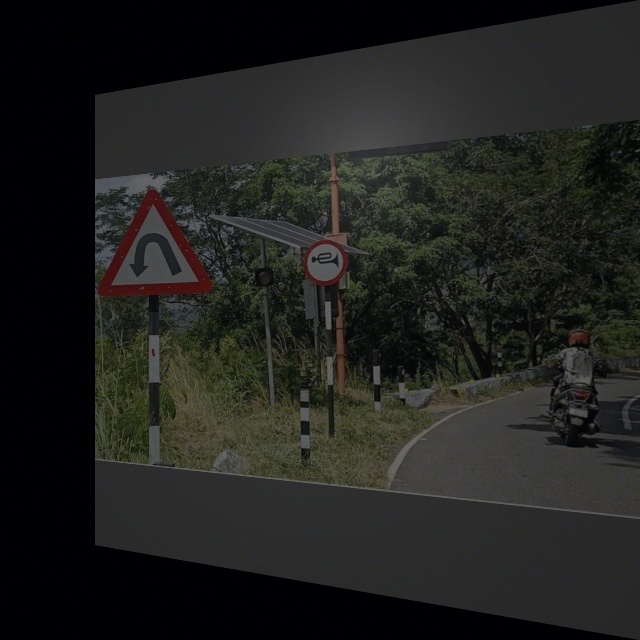Left_Hair_Pin_Bend: (100, 184, 213, 299)
